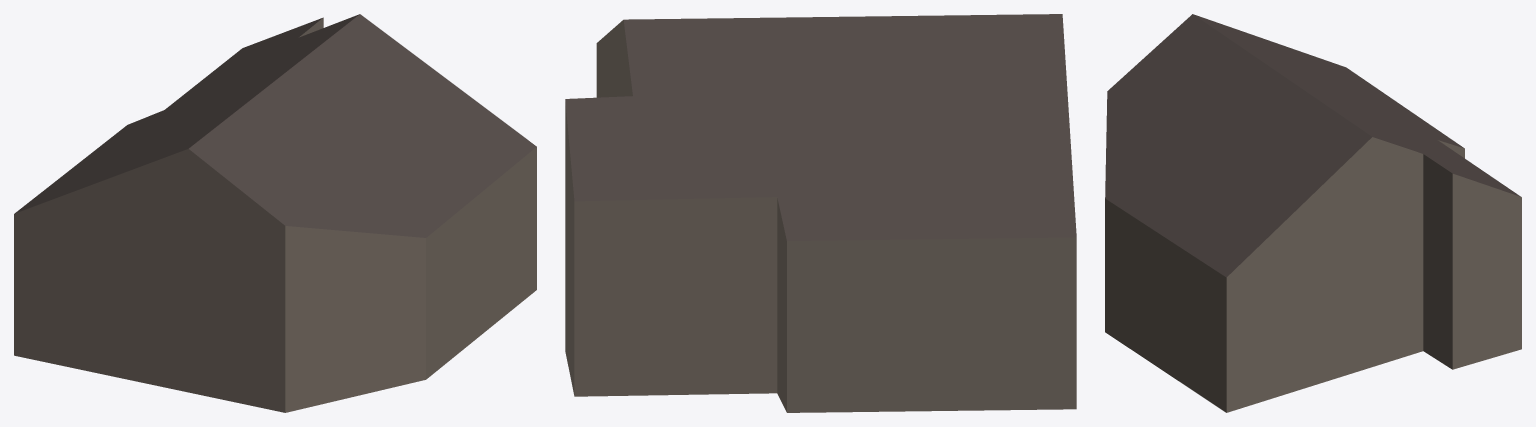
The picture shows the model from 3 angles, left to right: view 1: azimuth 30°, elevation 25°; view 2: azimuth 150°, elevation 25°; view 3: azimuth 270°, elevation 25°; orthographic projection. The views are drawn at different scales.
Parts seen in each view (by area): view 1: HP-w1197065012; view 2: HP-w1197065012; view 3: HP-w1197065012.
Boxes of the visible parts, x1,y1,x2,y2 form: HP-w1197065012: [14, 14, 536, 412]; HP-w1197065012: [565, 14, 1076, 412]; HP-w1197065012: [1105, 14, 1521, 412].
Size of the model in its own units: 20.35 by 10.32 by 16.93.
